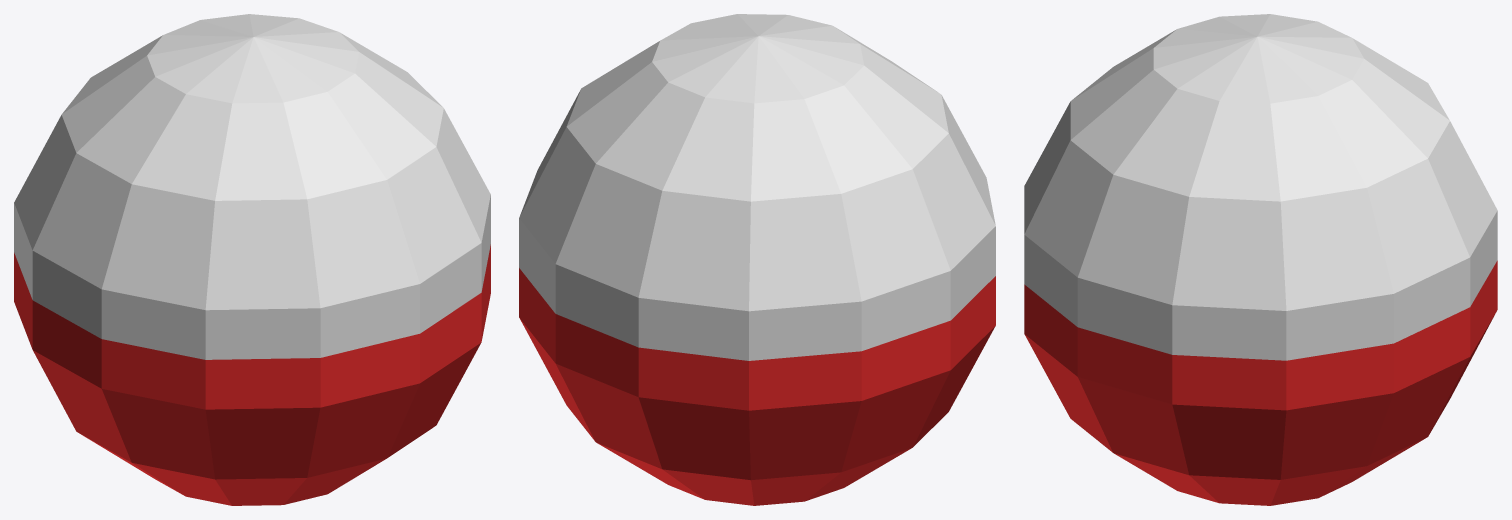
The model's file is skybox sphere.fbx.
3 renders of one model, left to right at view 1: azimuth 30°, elevation 25°; view 2: azimuth 150°, elevation 25°; view 3: azimuth 270°, elevation 25°, orthographic.
Parts seen in each view (by area): view 1: Sphere; view 2: Sphere; view 3: Sphere.
Boxes of the visible parts, x1=… form: Sphere: x1=14, y1=14, x2=490, y2=505; Sphere: x1=519, y1=14, x2=995, y2=505; Sphere: x1=1024, y1=14, x2=1497, y2=505.
Size of the model in its own units: 653 by 675 by 648.
